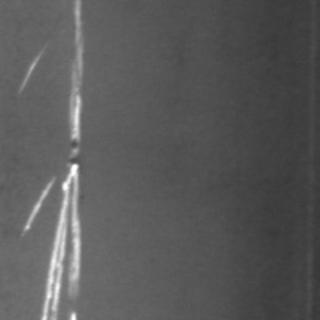scratches: (26, 1, 88, 316)
